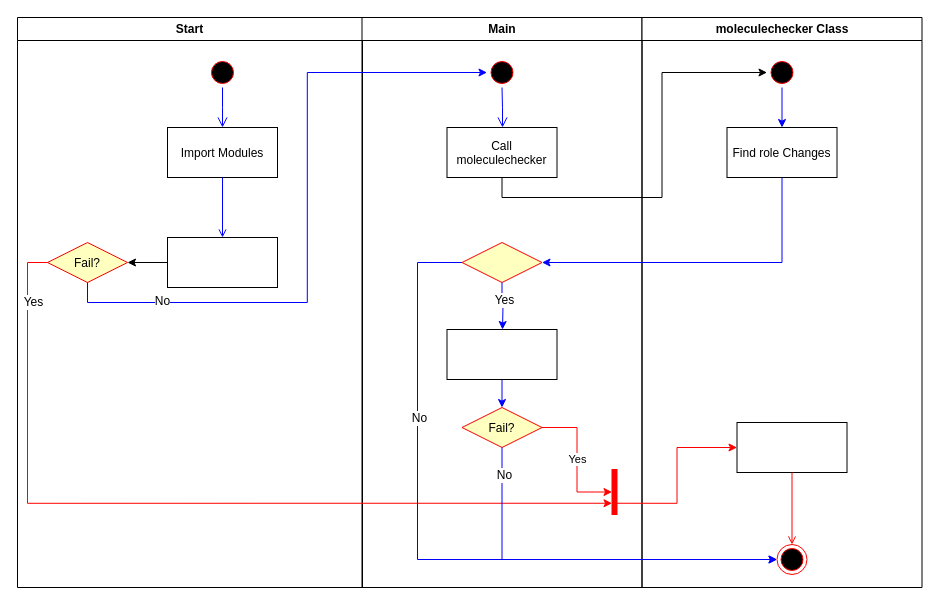
Image size: 940x605. Some labels were removed from this diagram. The shapes that lost their labels are listed below. From the top down, each one's centre as x and y in pixels, then its label:
(222,262): Check for Git Module
(501,262): Has Molecule?
(501,354): Check
(791,447): Exception Error
